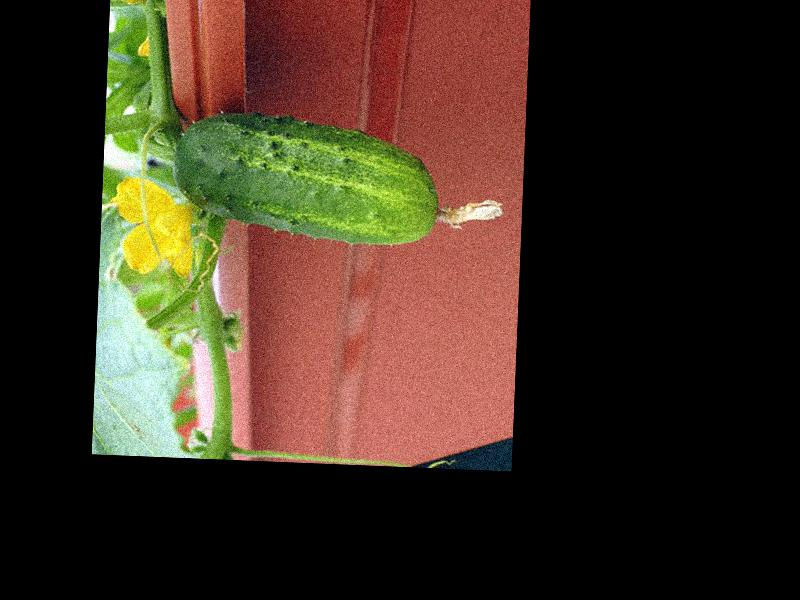Cucumber: (169, 110, 508, 251)
